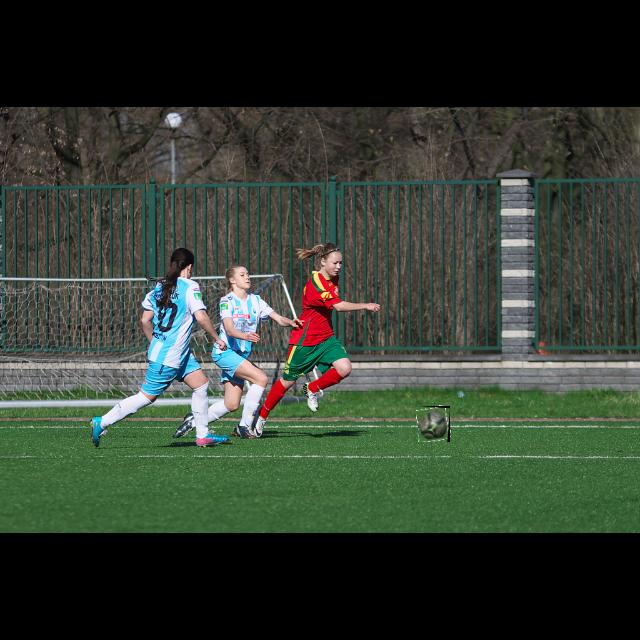Football: (418, 406, 450, 442)
